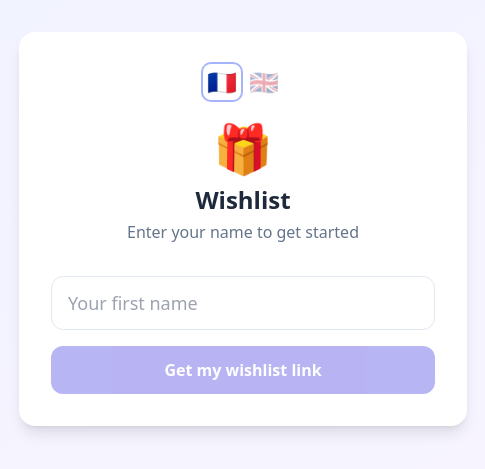
Test: Register view › step 1 — name form › shows an error message when the API fails
In the field with placeholder "Your first name": (243, 303) [51,276,435,330], type "Simon"
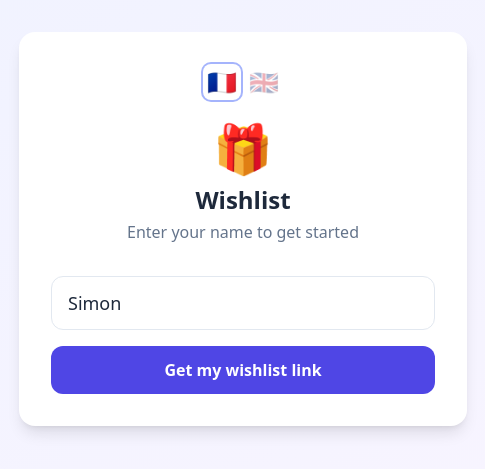
Submit the form, box [51,276,435,394]
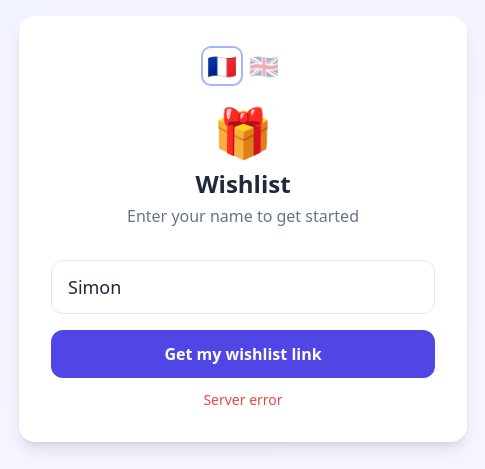
Result: the text "Server error" is shown at [203,390,283,409]
